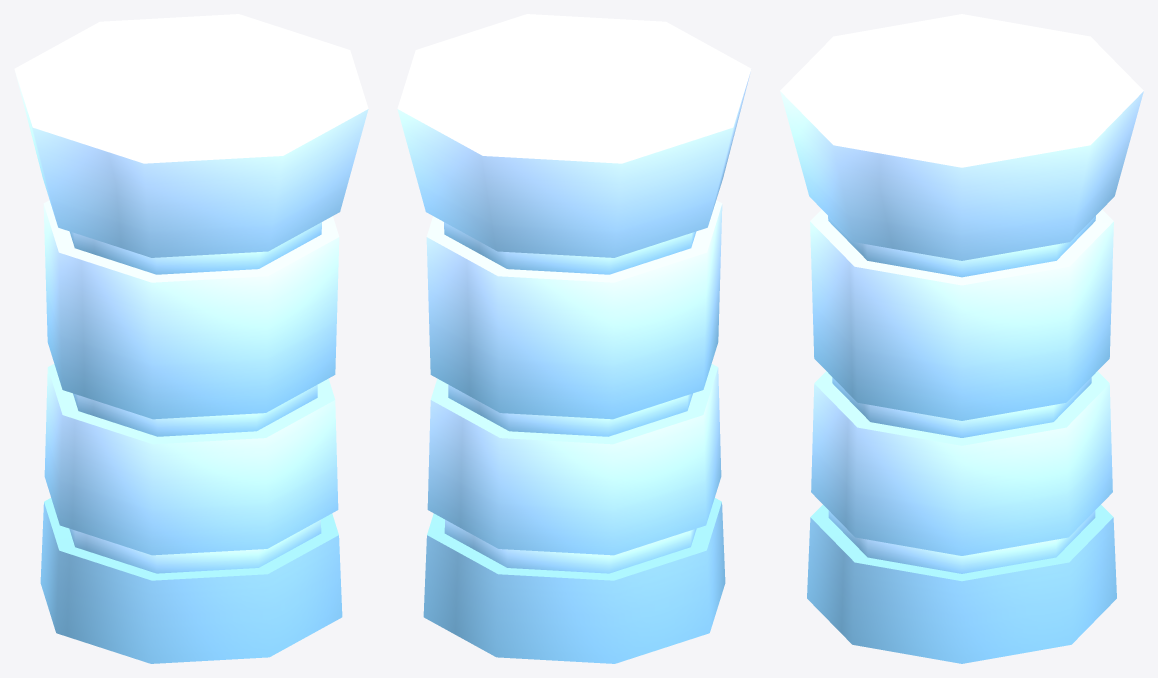
Rendered from steel_grip_044.glb.
3 views of the same model, side by side, from view 1: azimuth 30°, elevation 25°; view 2: azimuth 150°, elevation 25°; view 3: azimuth 270°, elevation 25° (orthographic).
Parts seen in each view (by area): view 1: steel_grip_044; view 2: steel_grip_044; view 3: steel_grip_044.
Part boxes in pixels (x1=…): steel_grip_044: x1=14, y1=14, x2=368, y2=663; steel_grip_044: x1=397, y1=14, x2=751, y2=663; steel_grip_044: x1=780, y1=14, x2=1143, y2=663.
Bounding box in the file's own units: 2.2 × 3.38 × 2.2.
1 material, 1 textured.
